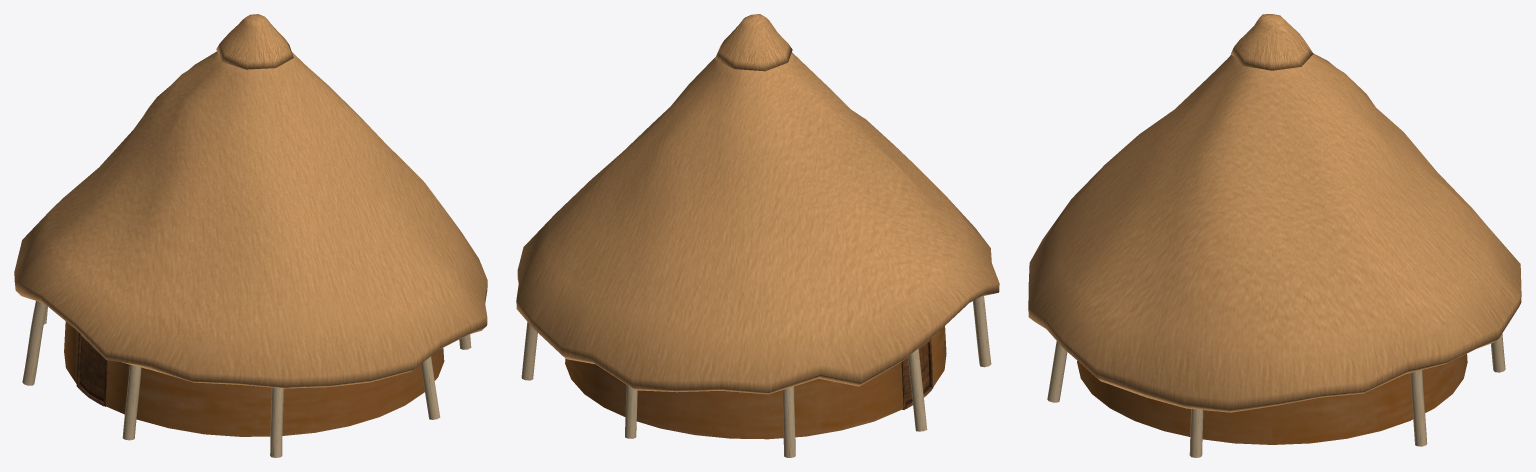
Rendered from House 6.fbx.
3 renders of one model, left to right at view 1: azimuth 30°, elevation 25°; view 2: azimuth 150°, elevation 25°; view 3: azimuth 270°, elevation 25°, orthographic. The views are drawn at different scales.
Parts seen in each view (by area): view 1: House.006; view 2: House.006; view 3: House.006.
Boxes of the visible parts, bbox=[...] form: House.006: bbox=[14, 14, 487, 457]; House.006: bbox=[516, 14, 999, 457]; House.006: bbox=[1028, 14, 1521, 457].
Bounding box in the file's own units: 3.91 × 3.06 × 3.86.
